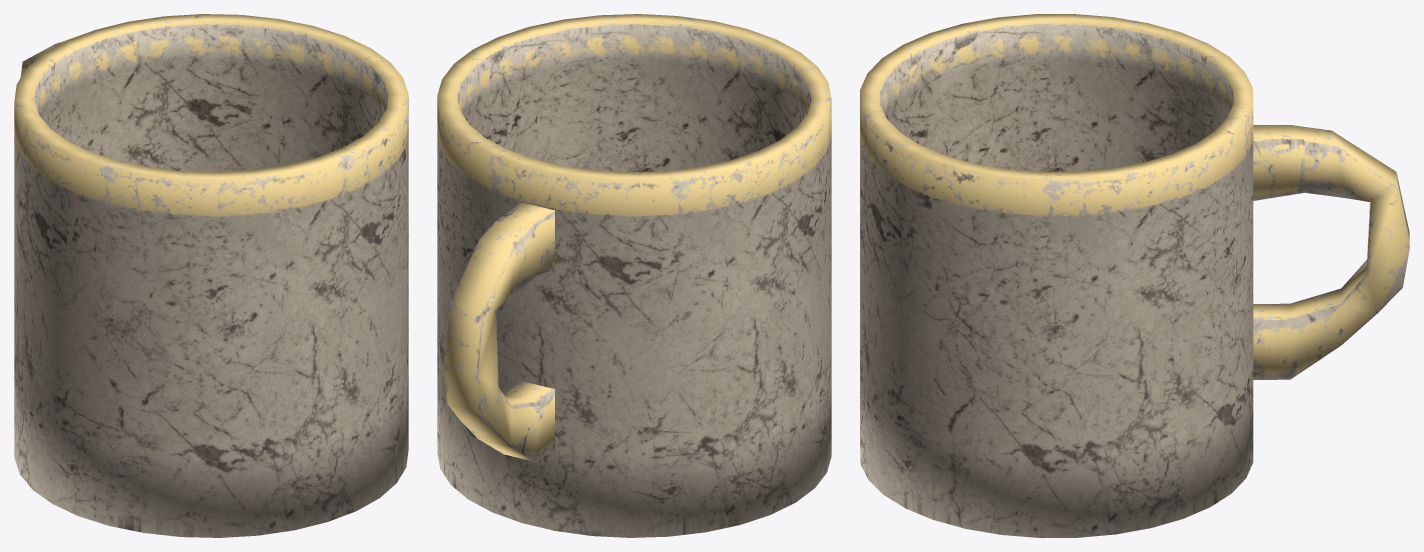
File: Mug.fbx
The picture shows the model from 3 angles, left to right: view 1: azimuth 30°, elevation 25°; view 2: azimuth 150°, elevation 25°; view 3: azimuth 270°, elevation 25°; orthographic projection.
Visible parts, largest first — view 1: Mug.001; view 2: Mug.001; view 3: Mug.001.
Part boxes in pixels (bbox=[...]): Mug.001: bbox=[14, 14, 408, 537]; Mug.001: bbox=[437, 14, 831, 537]; Mug.001: bbox=[860, 14, 1409, 537].
Bounding box in the file's own units: 49.8 × 50 × 69.62.
